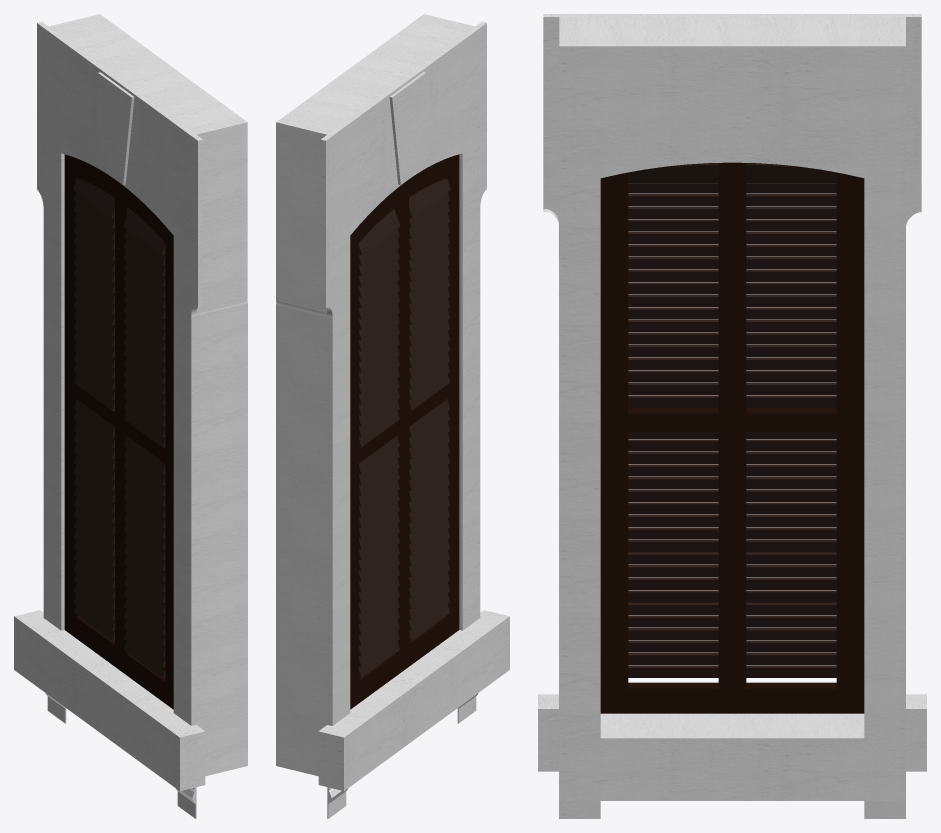
Rendered from 窗two.gltf.
3 renders of one model, left to right at view 1: azimuth 30°, elevation 25°; view 2: azimuth 150°, elevation 25°; view 3: azimuth 270°, elevation 25°, orthographic. The views are drawn at different scales.
Parts seen in each view (by area): view 1: object 2, Component#27 (×74), object 3, object 5, object 4; view 2: object 2, Component#27 (×74), object 3, object 5, object 4; view 3: object 2, Component#27 (×74), object 3, object 4, object 5, root.
Boxes of the visible parts, x1=… form: object 2: x1=14, y1=14, x2=247, y2=818; Component#27 (×74): x1=74, y1=202, x2=165, y2=678; object 3: x1=64, y1=154, x2=173, y2=709; object 5: x1=123, y1=208, x2=165, y2=255; object 4: x1=73, y1=178, x2=114, y2=218; object 2: x1=276, y1=14, x2=509, y2=818; Component#27 (×74): x1=358, y1=202, x2=449, y2=678; object 3: x1=350, y1=154, x2=459, y2=709; object 5: x1=409, y1=178, x2=450, y2=218; object 4: x1=358, y1=208, x2=400, y2=254; object 2: x1=538, y1=14, x2=926, y2=818; Component#27 (×74): x1=628, y1=183, x2=836, y2=677; object 3: x1=600, y1=162, x2=864, y2=713; object 4: x1=746, y1=163, x2=836, y2=182; object 5: x1=628, y1=163, x2=718, y2=182; root: x1=864, y1=801, x2=905, y2=818.
Bounding box in the file's own units: 0.3 × 2.55 × 1.12.
Materials: 4 (2 with a texture image).
